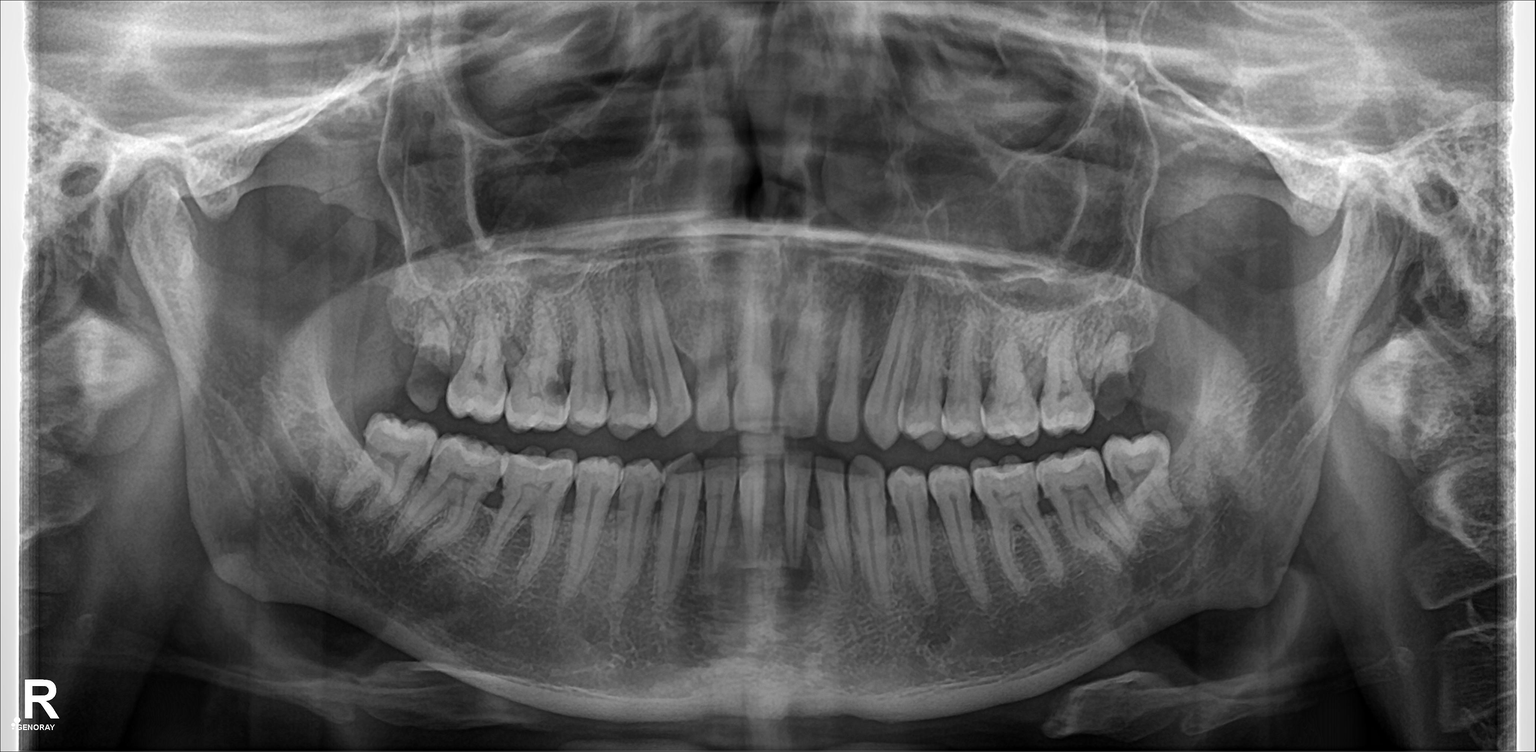Dental Caries: (1093, 370, 1131, 416), (408, 361, 448, 404), (542, 352, 578, 393)
Missing Tooth: (1140, 294, 1195, 407), (361, 290, 408, 407)
Tooth Fracture: (1088, 318, 1137, 417), (412, 296, 448, 405)
